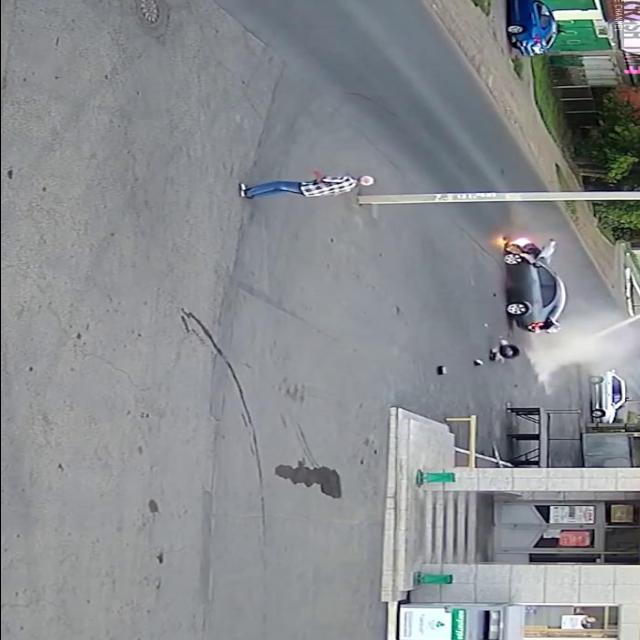accident: (479, 229, 585, 363)
